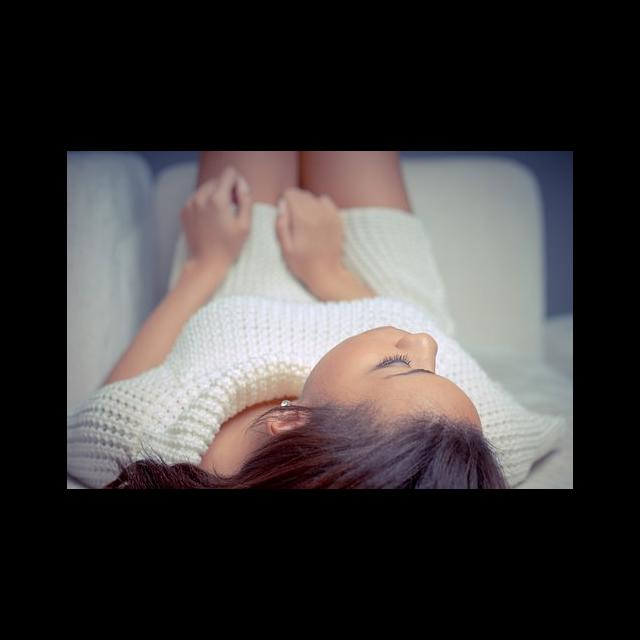female: (279, 322, 492, 489)
